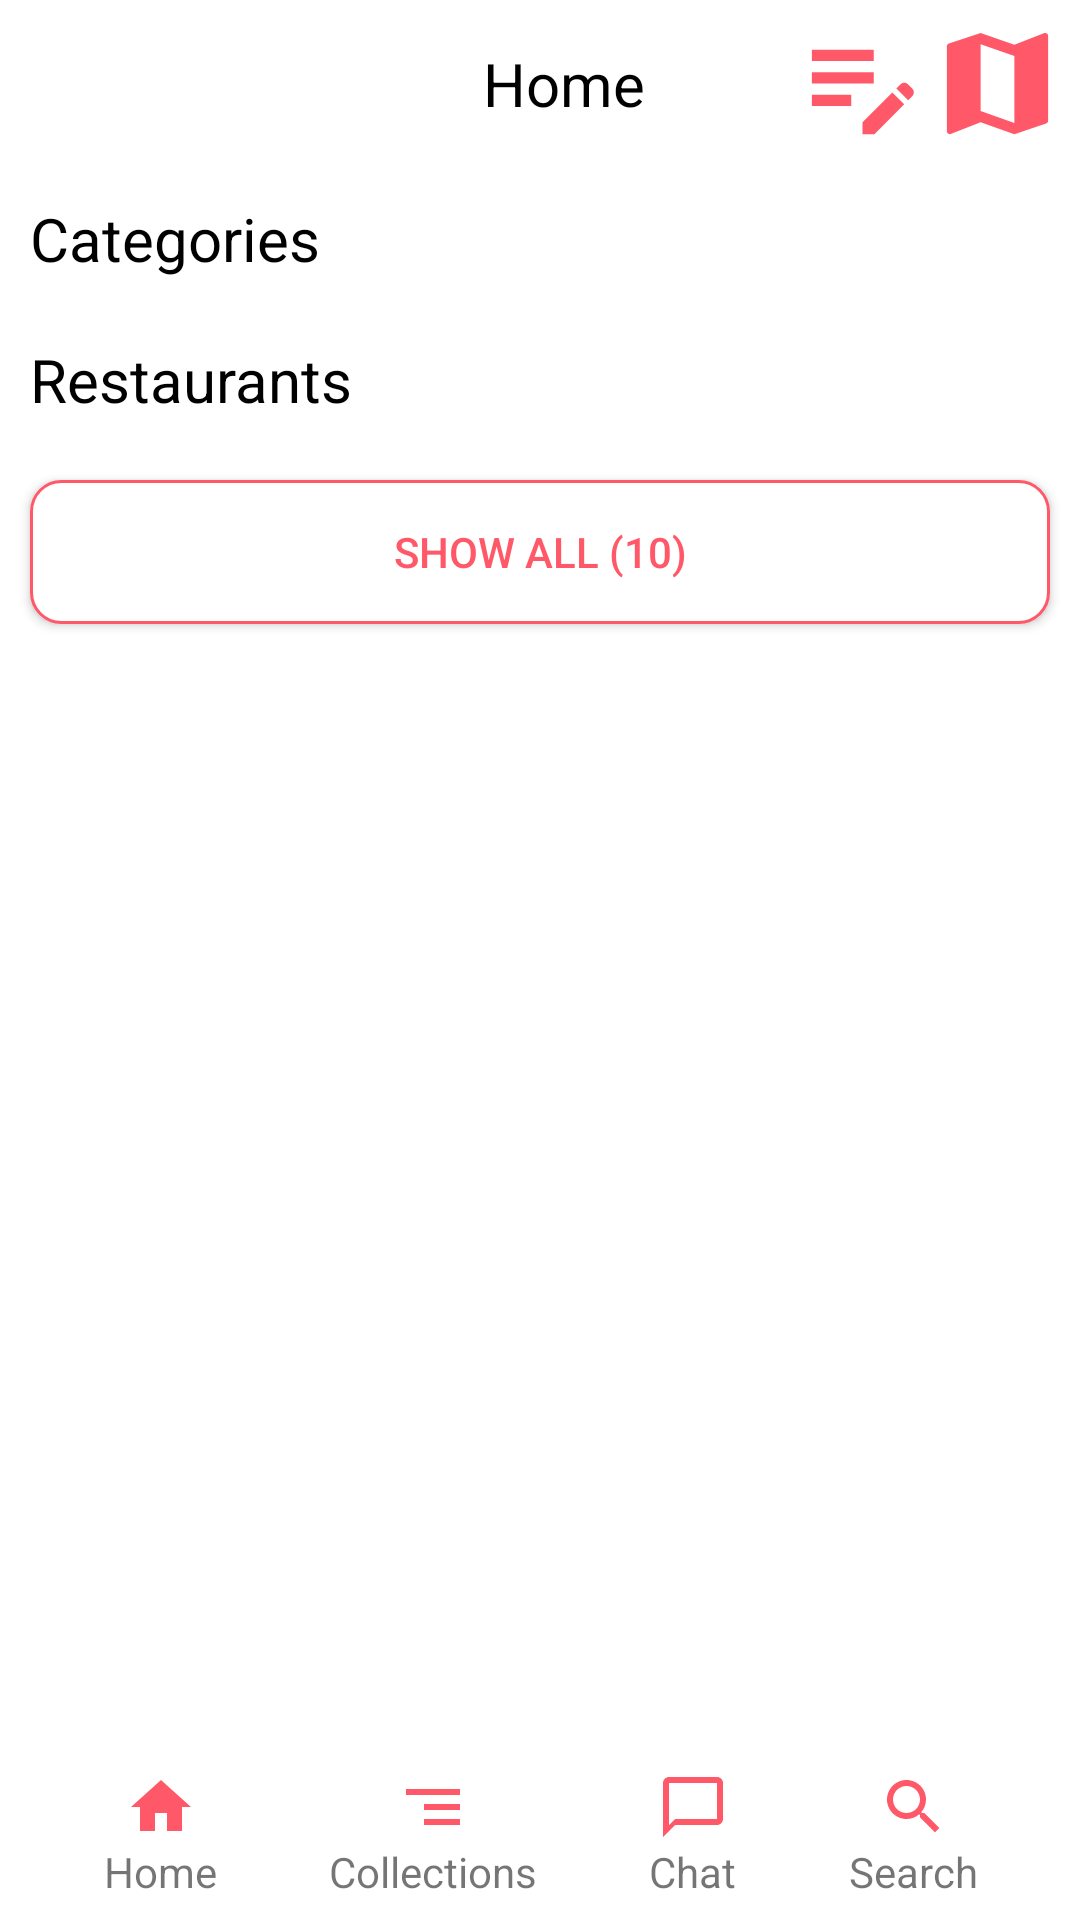

Named icons in this screenshot (1080 x 1920) and their centers, (x,y):
edit note: (863,92)
map: (997,84)
segment: (433,1807)
